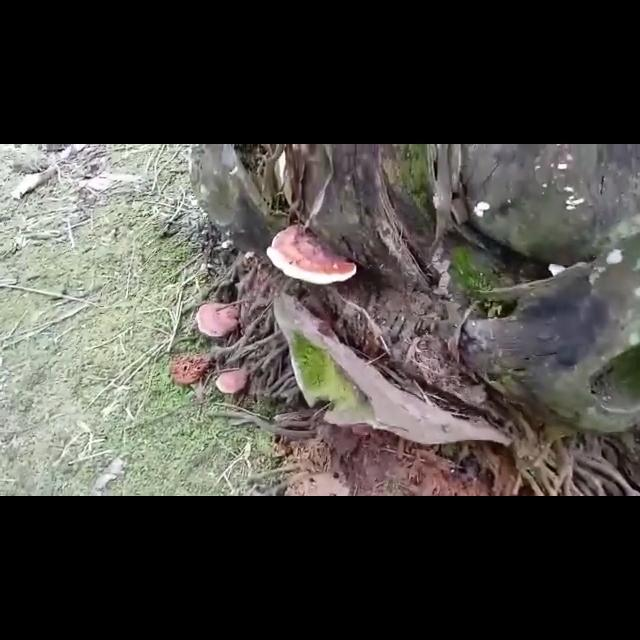ganoderma: (265, 222, 361, 288), (194, 303, 243, 340), (215, 366, 251, 396)
primordium: (473, 201, 493, 221)
